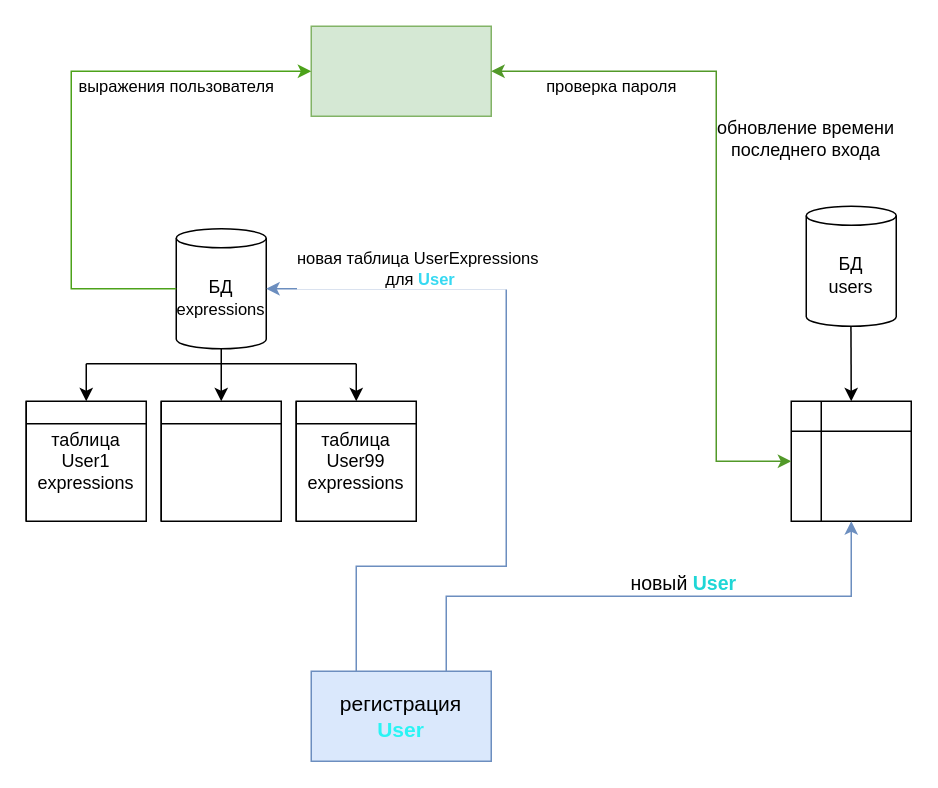
Some shapes in this 938 by 788 pixel diagram are drawn without their labels. Here are the shapes that lost their labels. From the top down, the box of each, then its label:
(310, 25, 491, 116): вход User
(160, 400, 281, 521): таблица User... expressions
(790, 400, 911, 521): таблица Users
